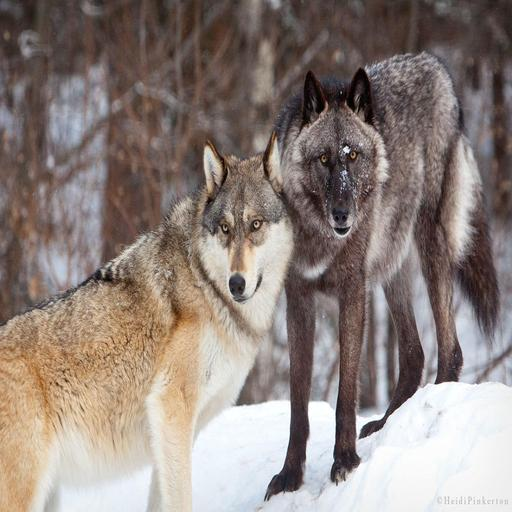Wolf: (253, 46, 512, 512), (0, 134, 303, 512)
